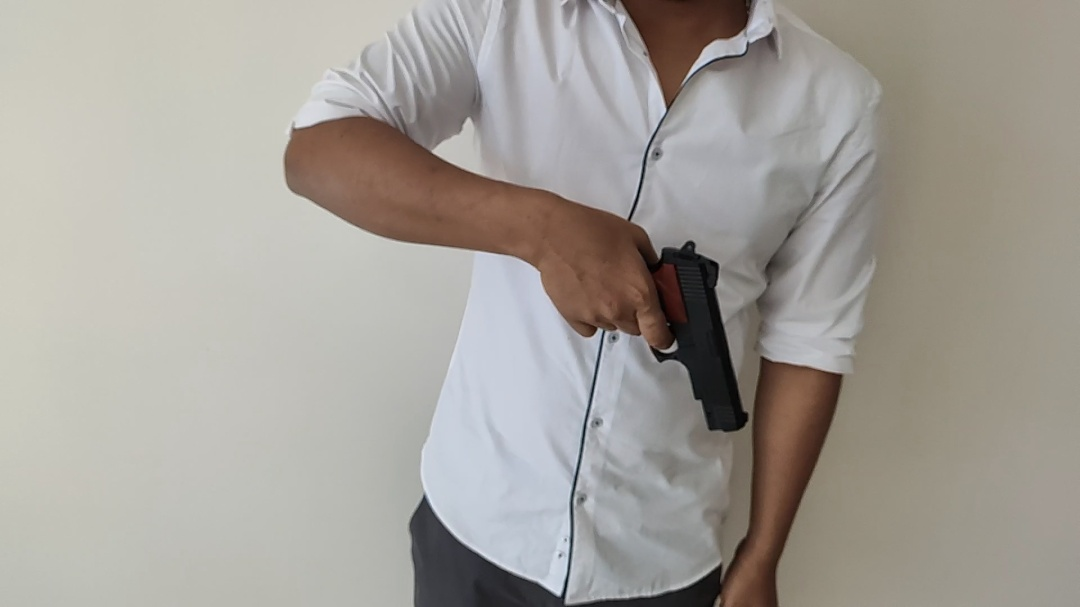gun: (648, 237, 749, 432)
